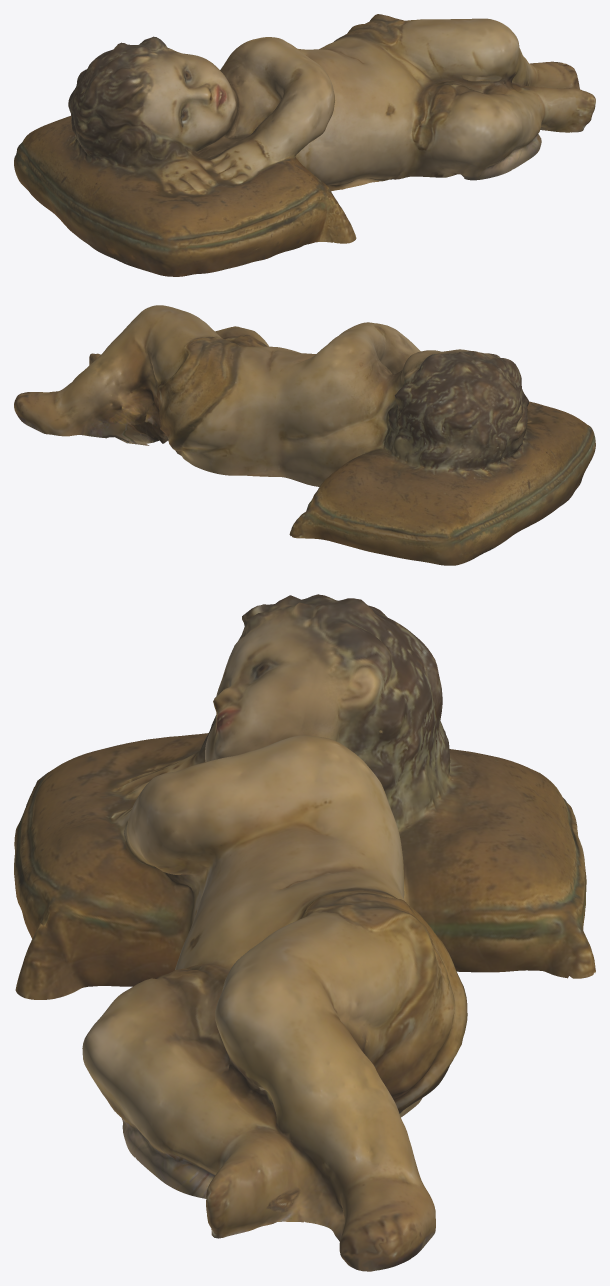
File: Ninioo.glb
The picture shows the model from 3 angles, top to bottom: view 1: azimuth 30°, elevation 25°; view 2: azimuth 150°, elevation 25°; view 3: azimuth 270°, elevation 25°; orthographic projection. The views are drawn at different scales.
Visible parts, largest first — view 1: Ninio_; view 2: Ninio_; view 3: Ninio_.
Part boxes in pixels (box(x1,y1,x2,y2)): Ninio_: box(14, 14, 595, 276); Ninio_: box(14, 305, 595, 565); Ninio_: box(14, 594, 595, 1271).
Size of the model in its own units: 0.557 by 0.1602 by 0.3007.
1 material, 1 textured.
